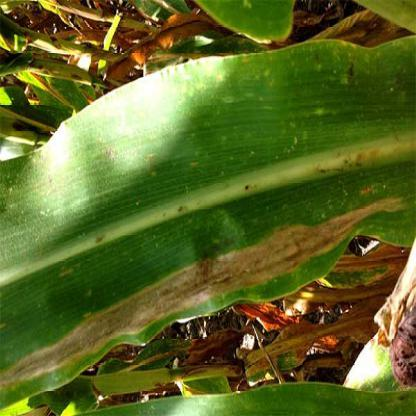corn leaf blight: (1, 33, 415, 399)
